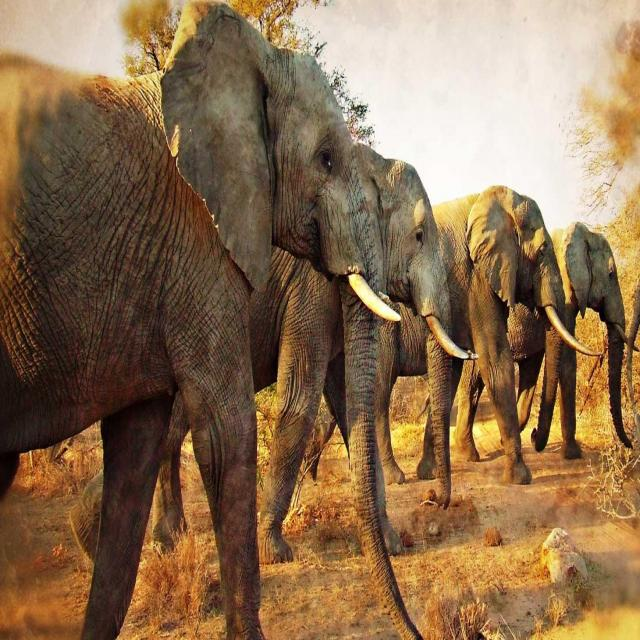Elephant: (0, 0, 424, 640), (421, 173, 576, 488), (352, 130, 473, 508), (546, 209, 640, 461)
